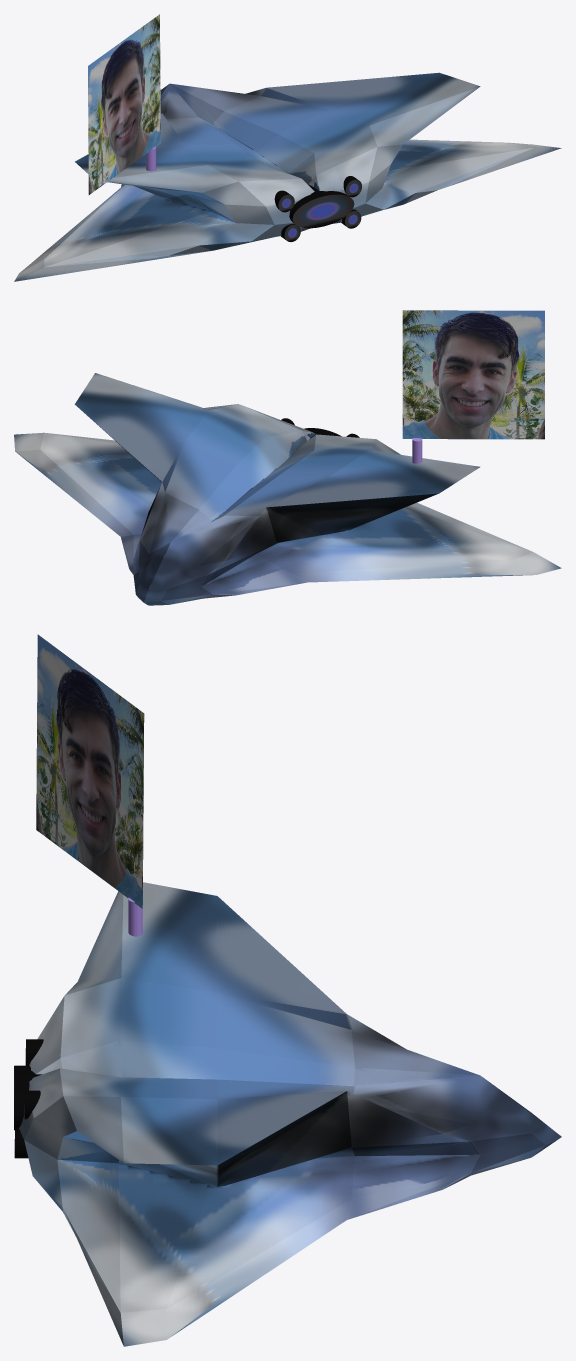
File: Player.gltf
3 renders of one model, top to bottom at view 1: azimuth 30°, elevation 25°; view 2: azimuth 150°, elevation 25°; view 3: azimuth 270°, elevation 25°, orthographic. The views are drawn at different scales.
Visible parts, largest first — view 1: Cube, Plane, Cylinder, Cylinder.001; view 2: Cube, Plane; view 3: Cube, Plane, Cylinder.
Boxes of the visible parts, x1,y1,x2,y2 form: Cube: [14, 72, 561, 281]; Plane: [88, 14, 160, 194]; Cylinder: [289, 184, 354, 228]; Cylinder.001: [274, 190, 294, 212]; Cube: [14, 373, 561, 605]; Plane: [402, 310, 544, 439]; Cube: [19, 882, 561, 1346]; Plane: [36, 634, 144, 908]; Cylinder: [14, 1065, 41, 1130].
Bounding box in the file's own units: 1.33 × 0.5459 × 0.7623.
8 materials, 7 textured.
